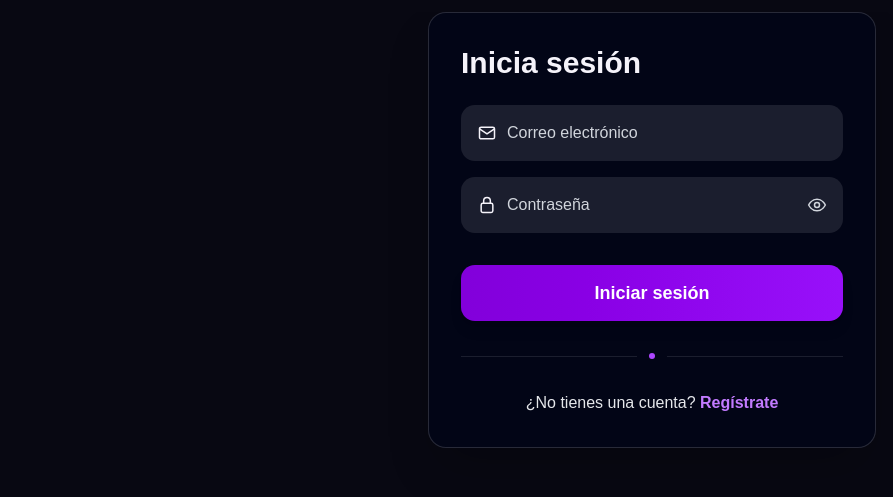
Test: LoginForm › should allow retrying after a failed login
Type "usuario@gmail.com" into the field labelled "Correo electrónico". click: (667, 133)
box: [507,105,827,161]
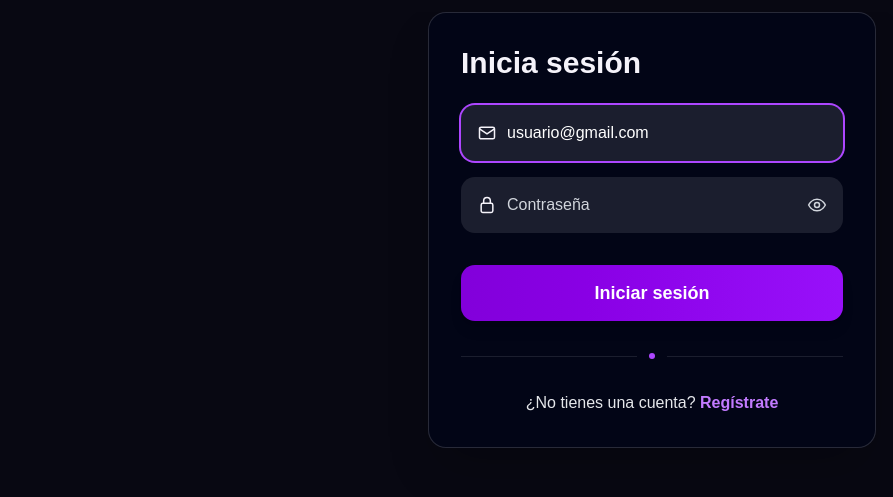
Type "WrongPassword" into the password field labelled "Contraseña". click: (652, 205)
box: [507,177,797,233]
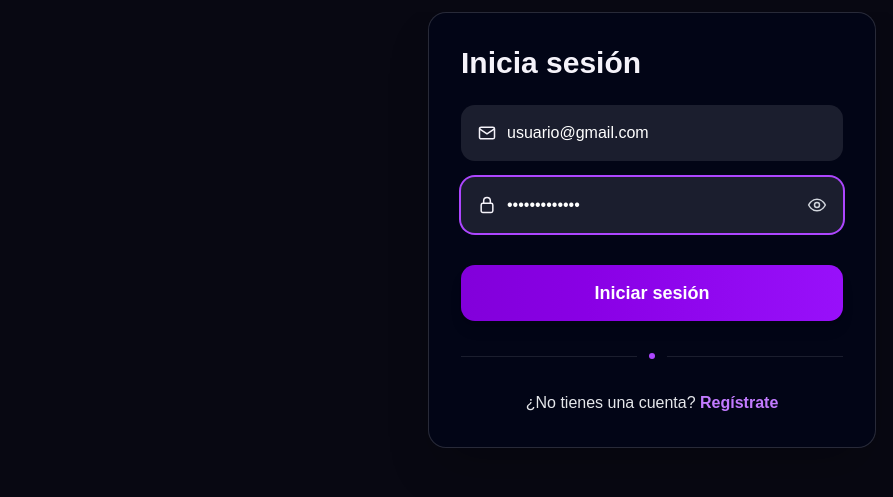
Click the button "Iniciar sesión". click: (652, 293)
box: [461,265,843,321]
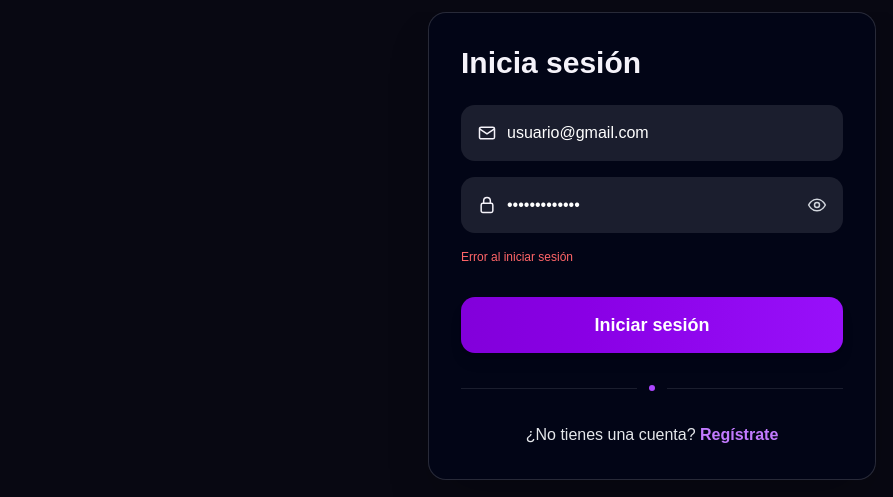
expect the message reads "Error al iniciar sesión": met, box [461,250,573,264]
Type "Password123" into the password field named "Contraseña". click: (652, 205)
box: [507,177,797,233]
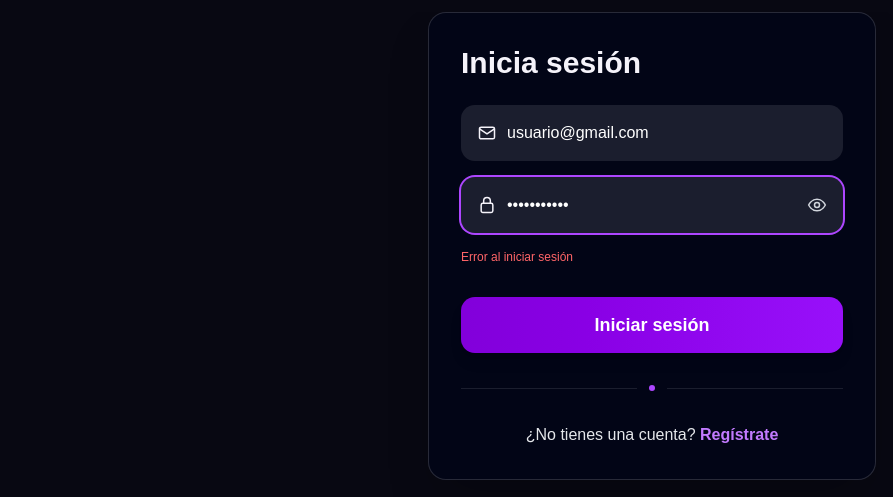
Click the button "Iniciar sesión". click: (652, 325)
box: [461,297,843,353]
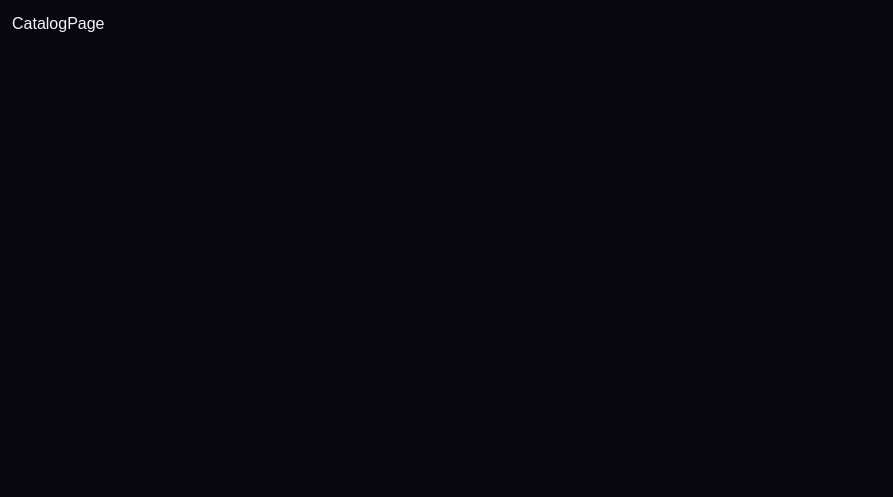
expect the heading "CatalogPage" is shown: met, box [12,15,104,32]
